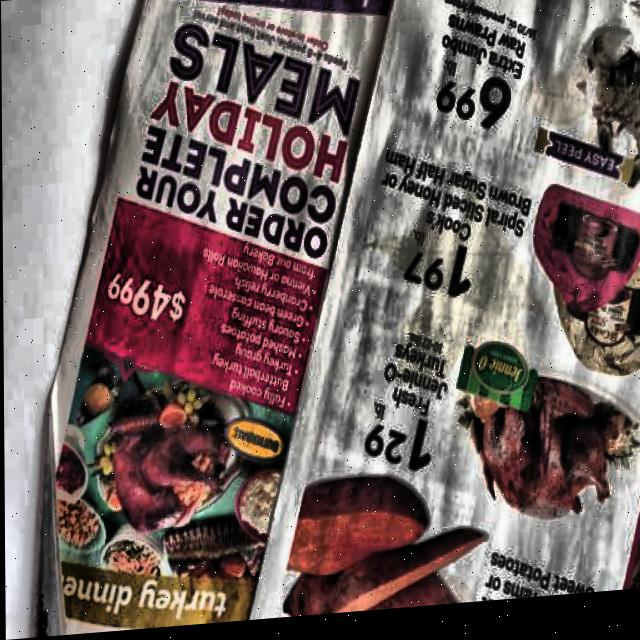paper: (42, 0, 640, 637)
